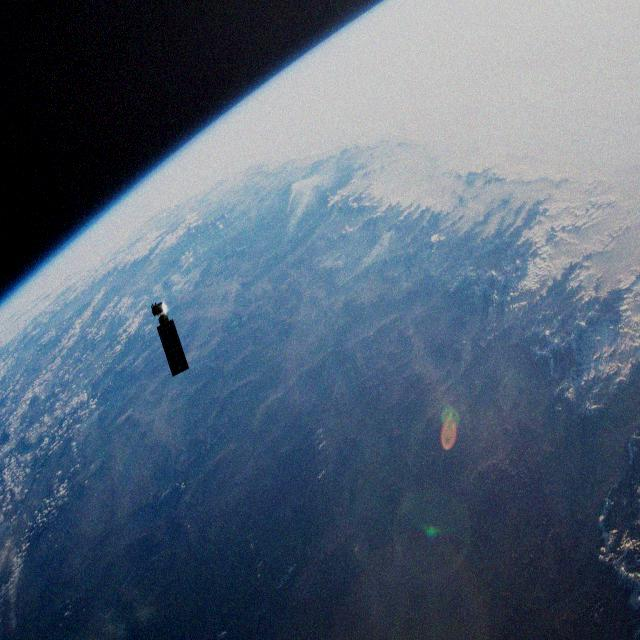satellite: (134, 293, 195, 389)
